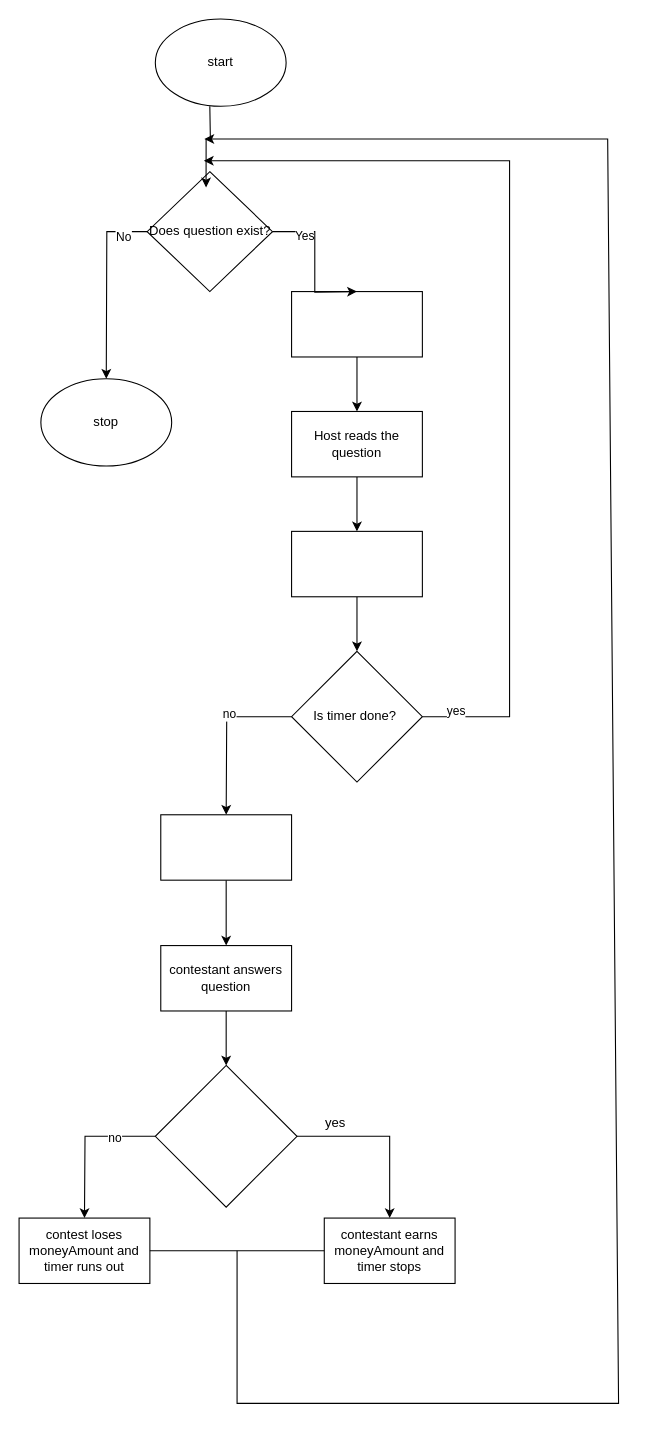
The diagram is 646 pixels wide and 1431 high, and some of its shapes have lost their labels. Each missing label, with the centre of its shape:
"answer correct?" belongs at pixel 225 1135.
"contest hits button to answer" belongs at pixel 226 847.
"Contestant picks a category and money amount" belongs at pixel 356 323.
"Timer starts" belongs at pixel 356 563.
